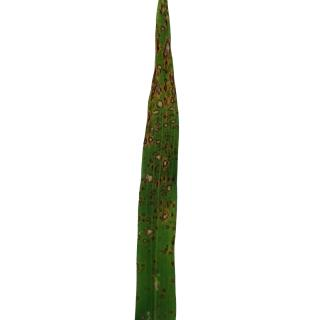Blast: (160, 0, 168, 24), (145, 229, 155, 238), (161, 211, 170, 221), (145, 174, 153, 184), (161, 160, 168, 168), (158, 100, 166, 107), (152, 109, 160, 115)
